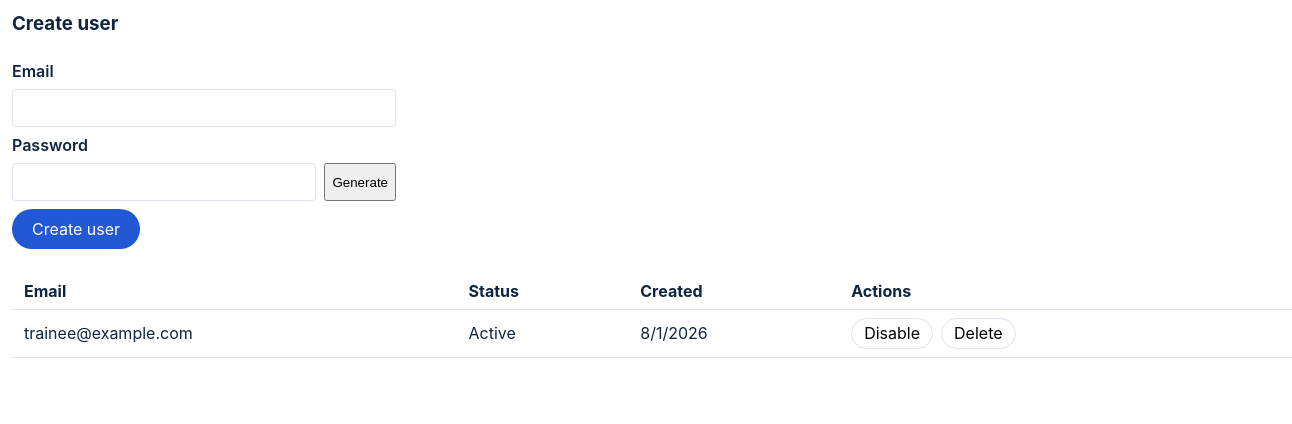
Test: AdminUsers › creates a new user and refreshes the list
Check: the text "trainee@example.com" is shown, box [12,309,456,358]
Type "new@example.com" into the field labelled "Email".
click(204, 108); type("new@example.com")  # box [12,89,396,127]
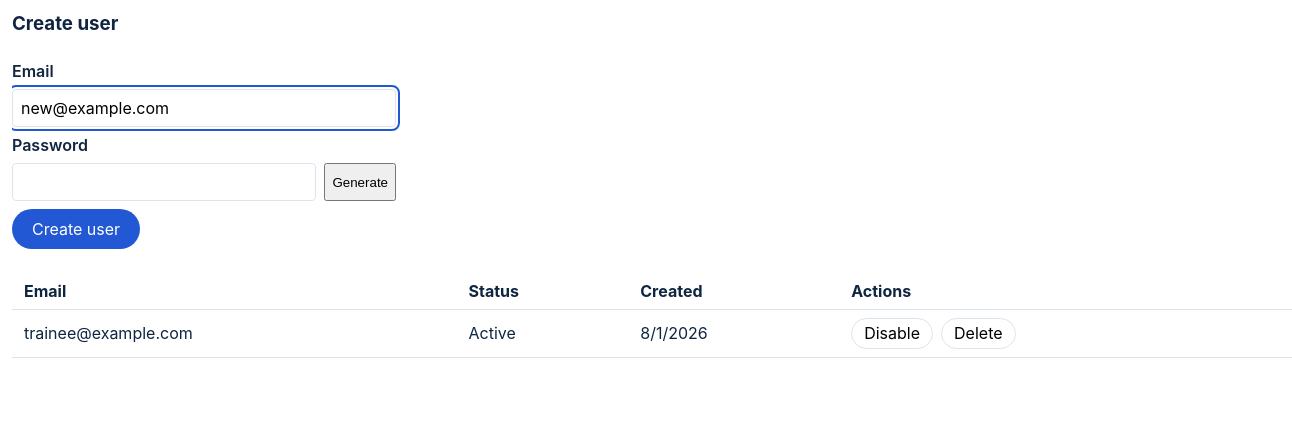
Type "a-strong-password" into the field labelled "Password".
click(164, 182); type("a-strong-password")  # box [12,163,316,201]
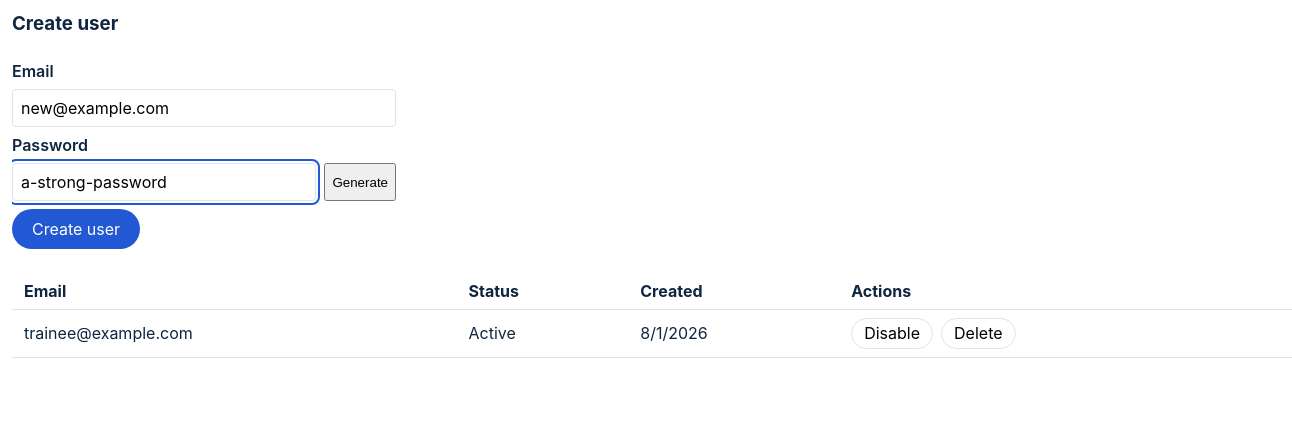
Click the button "Create user".
click(76, 229)  # box [12,209,140,249]
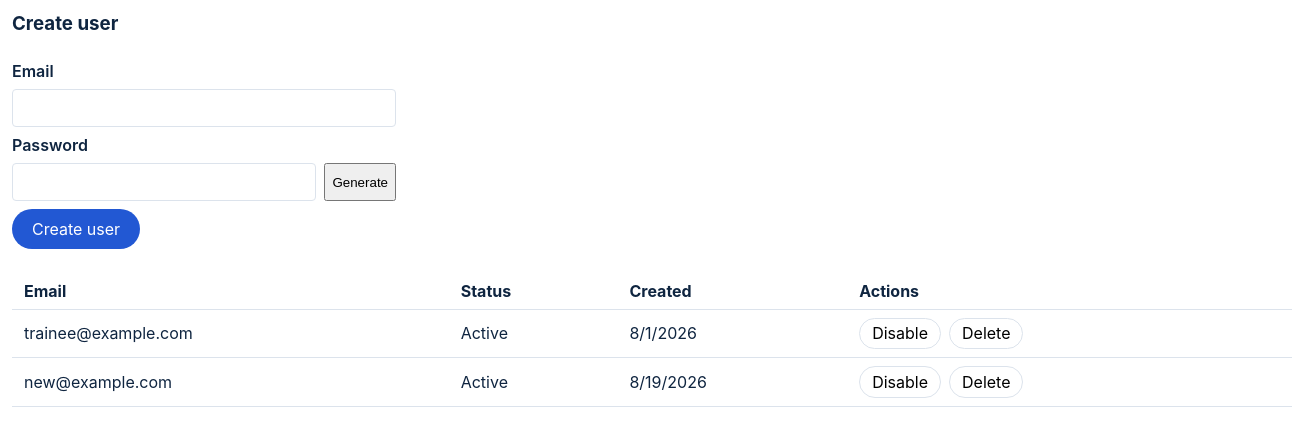
Check: the text "new@example.com" is shown, box [12,358,449,406]
